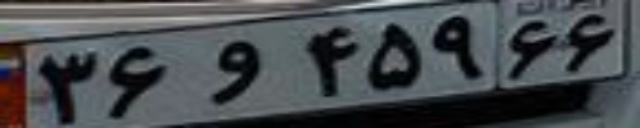3: (36, 51, 95, 124)
4: (305, 25, 359, 96)
5: (369, 21, 419, 89)
6: (105, 46, 163, 118), (505, 19, 559, 79), (566, 13, 614, 73)
9: (429, 15, 481, 80)
vav: (205, 40, 260, 104)
